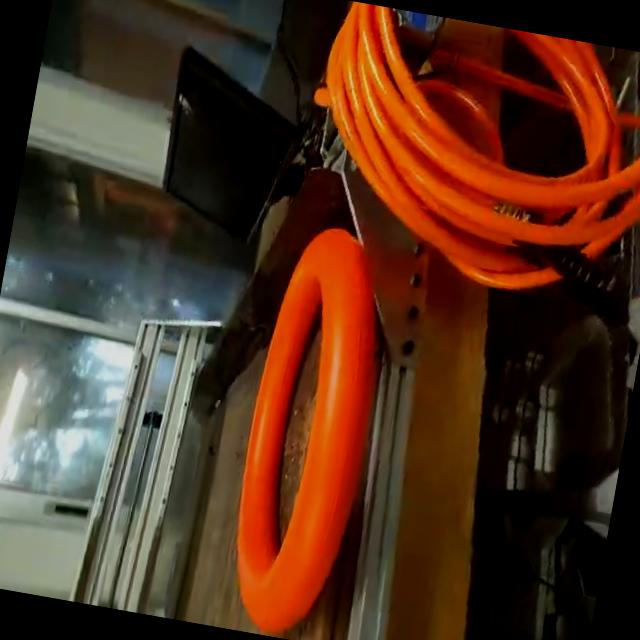note: (214, 220, 403, 640)
